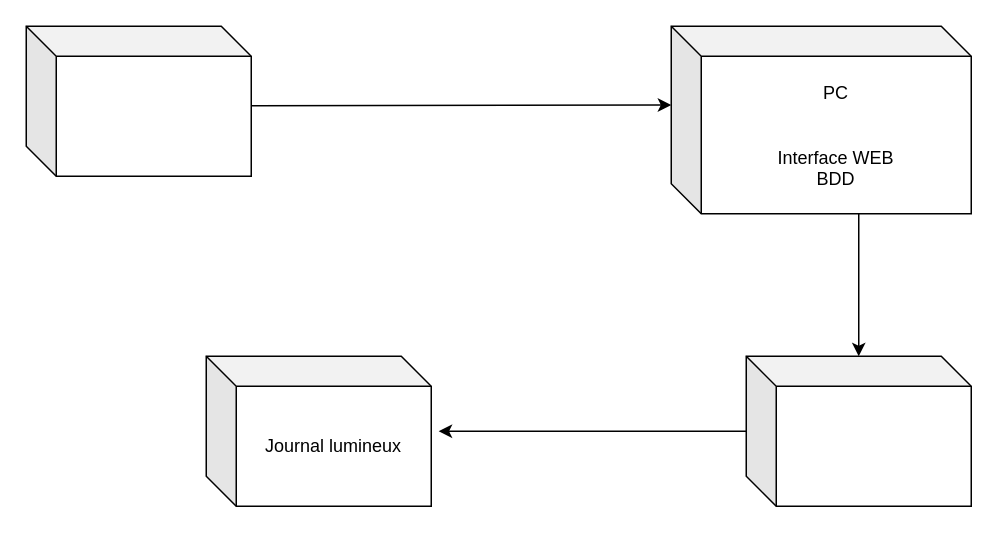
The diagram is 998 pixels wide and 533 high, and some of its shapes have lost their labels. Here are the shapes that lost their labels. From the top down, the box of each, then its label:
(25, 25, 251, 176): Caméra
(745, 355, 971, 506): Raspberry
